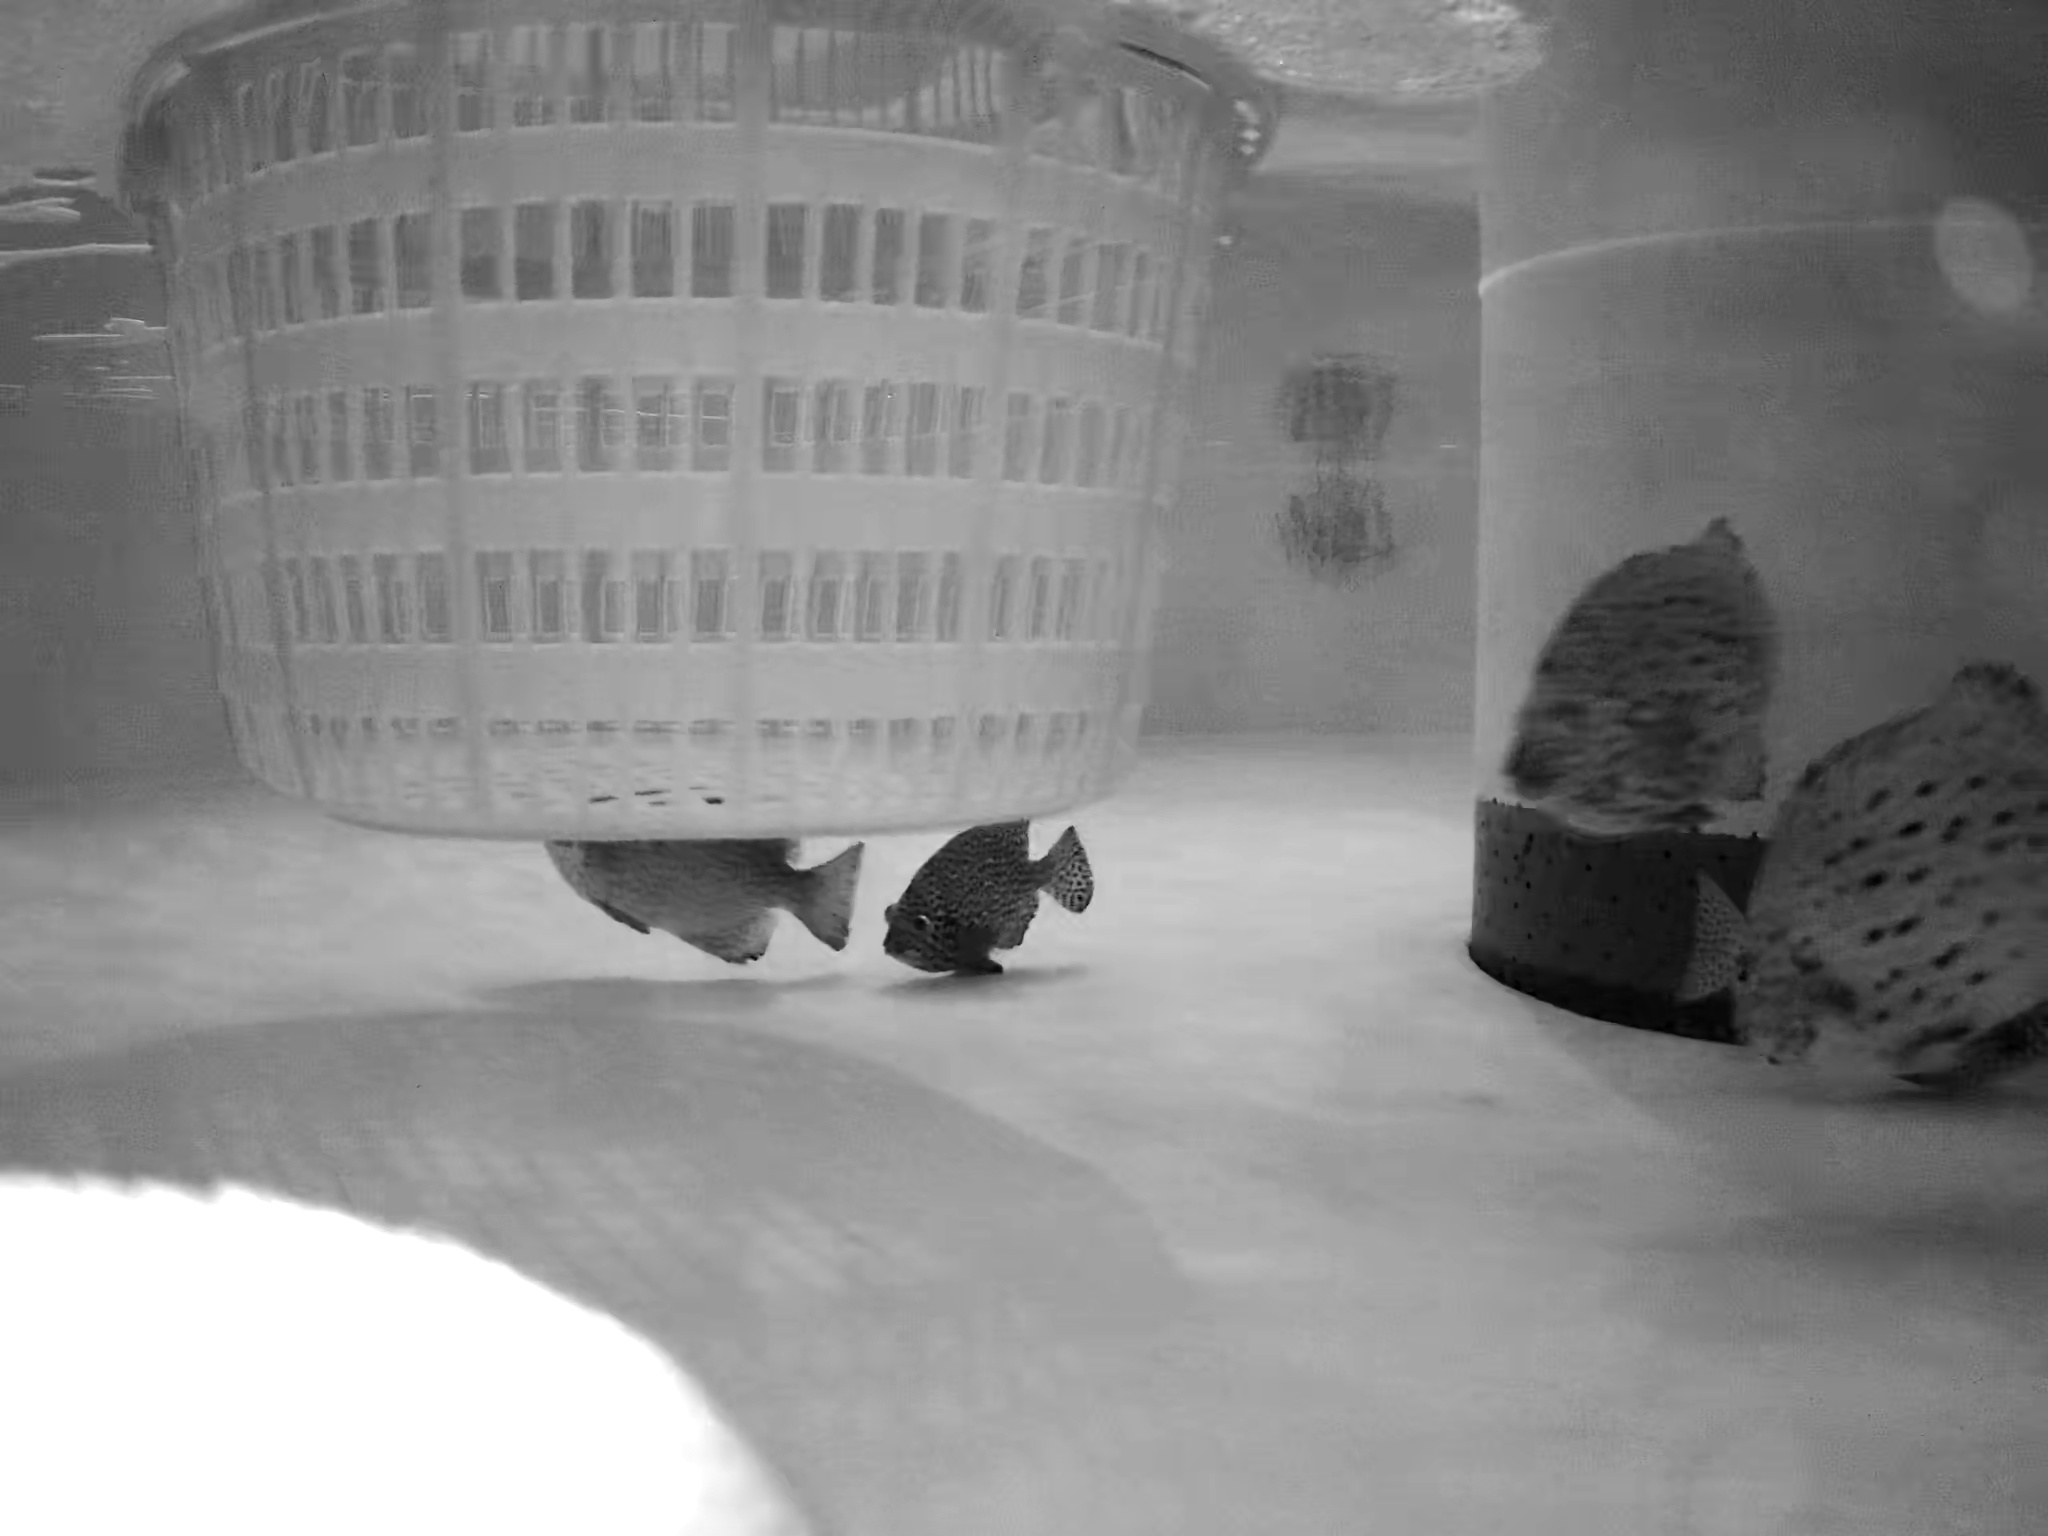fish: (1677, 662, 2048, 1084), (1495, 521, 1777, 813), (534, 768, 861, 976), (871, 820, 1103, 991)
